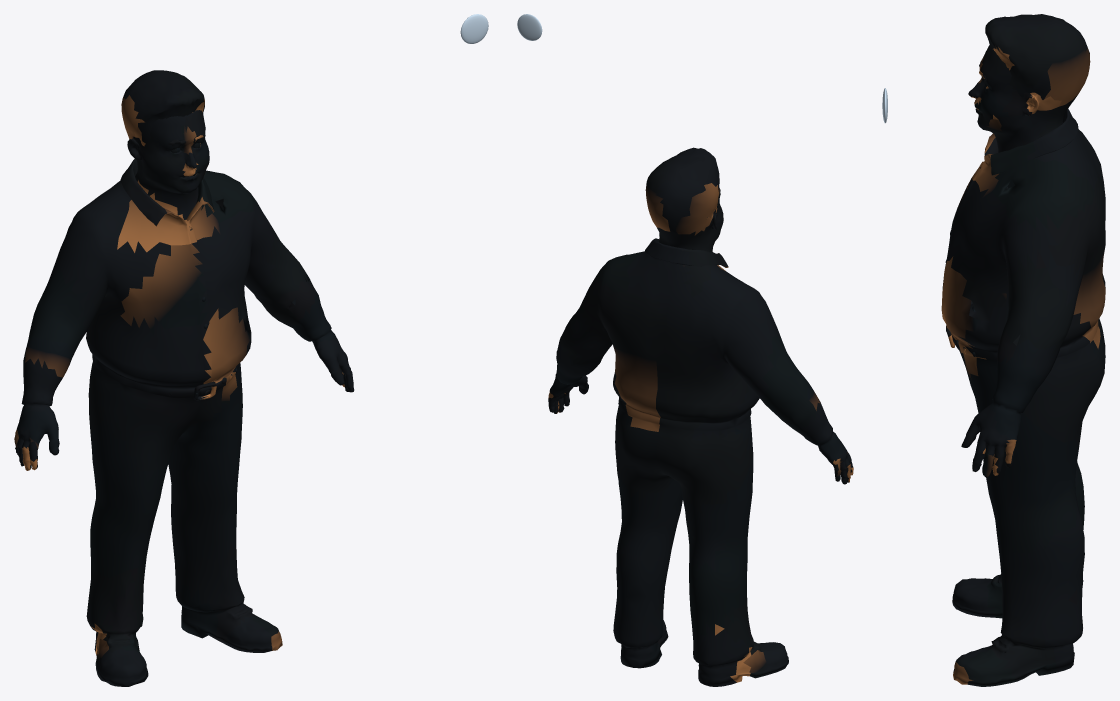
The model's file is AbdullahEkinci_MeshyPro_Unrigged.fbx.
3 views of the same model, side by side, from view 1: azimuth 30°, elevation 25°; view 2: azimuth 150°, elevation 25°; view 3: azimuth 270°, elevation 25° (orthographic). The views are drawn at different scales.
Parts seen in each view (by area): view 1: AbdullahEkinci; view 2: AbdullahEkinci; view 3: AbdullahEkinci.
Boxes of the visible parts, x1,y1,x2,y2 form: AbdullahEkinci: (14,14,488,686); AbdullahEkinci: (517,14,853,686); AbdullahEkinci: (882,14,1105,686).
Size of the model in its own units: 1.28 by 1.8 by 0.5359.
2 materials, 1 textured.
